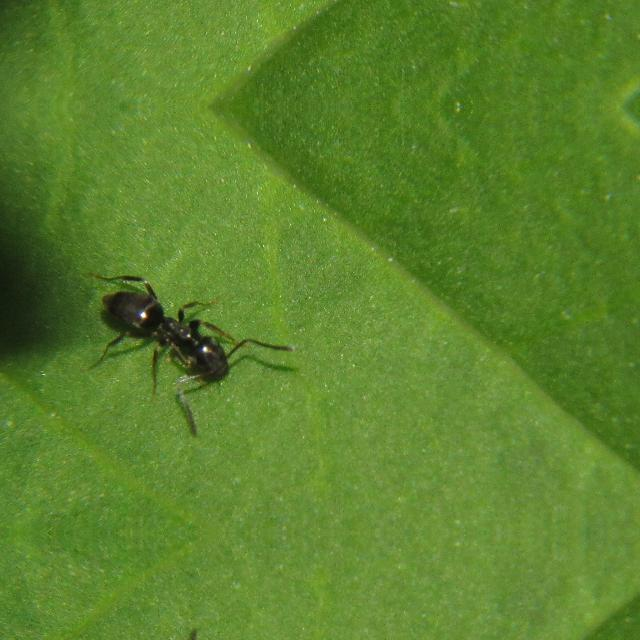Tapinoma: (81, 274, 272, 398)
